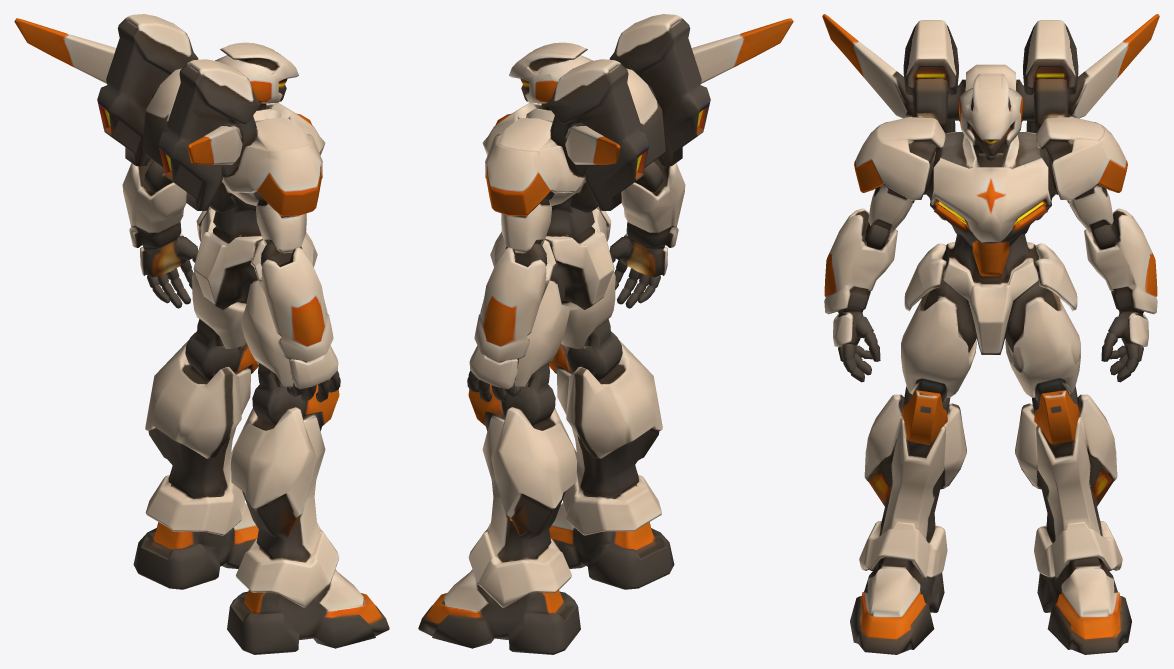
The model's file is tripo_convert_555dd9d3-5418-4ced-a9e5-dd560a142571.glb.
The picture shows the model from 3 angles, left to right: view 1: azimuth 30°, elevation 25°; view 2: azimuth 150°, elevation 25°; view 3: azimuth 270°, elevation 25°; orthographic projection. The views are drawn at different scales.
Visible parts, largest first — view 1: tripo_node_555dd9d3-5418-4ced-a9e5-dd560a142571; view 2: tripo_node_555dd9d3-5418-4ced-a9e5-dd560a142571; view 3: tripo_node_555dd9d3-5418-4ced-a9e5-dd560a142571.
Boxes of the visible parts, x1,y1,x2,y2 form: tripo_node_555dd9d3-5418-4ced-a9e5-dd560a142571: (14, 14, 389, 654); tripo_node_555dd9d3-5418-4ced-a9e5-dd560a142571: (418, 14, 793, 654); tripo_node_555dd9d3-5418-4ced-a9e5-dd560a142571: (822, 14, 1159, 654).
Size of the model in its own units: 0.4146 by 0.9995 by 0.5483.
Materials: 1 (1 with a texture image).
